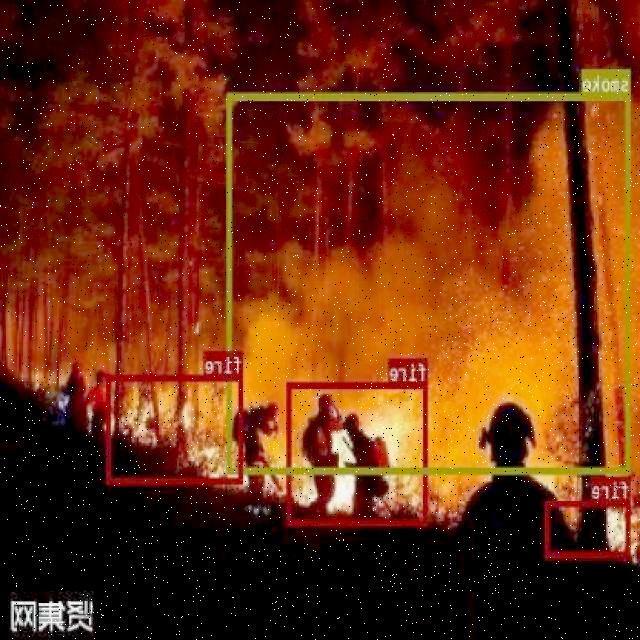fire: (288, 382, 430, 524), (107, 373, 244, 484), (546, 499, 632, 556)
smoke: (228, 92, 632, 472)
